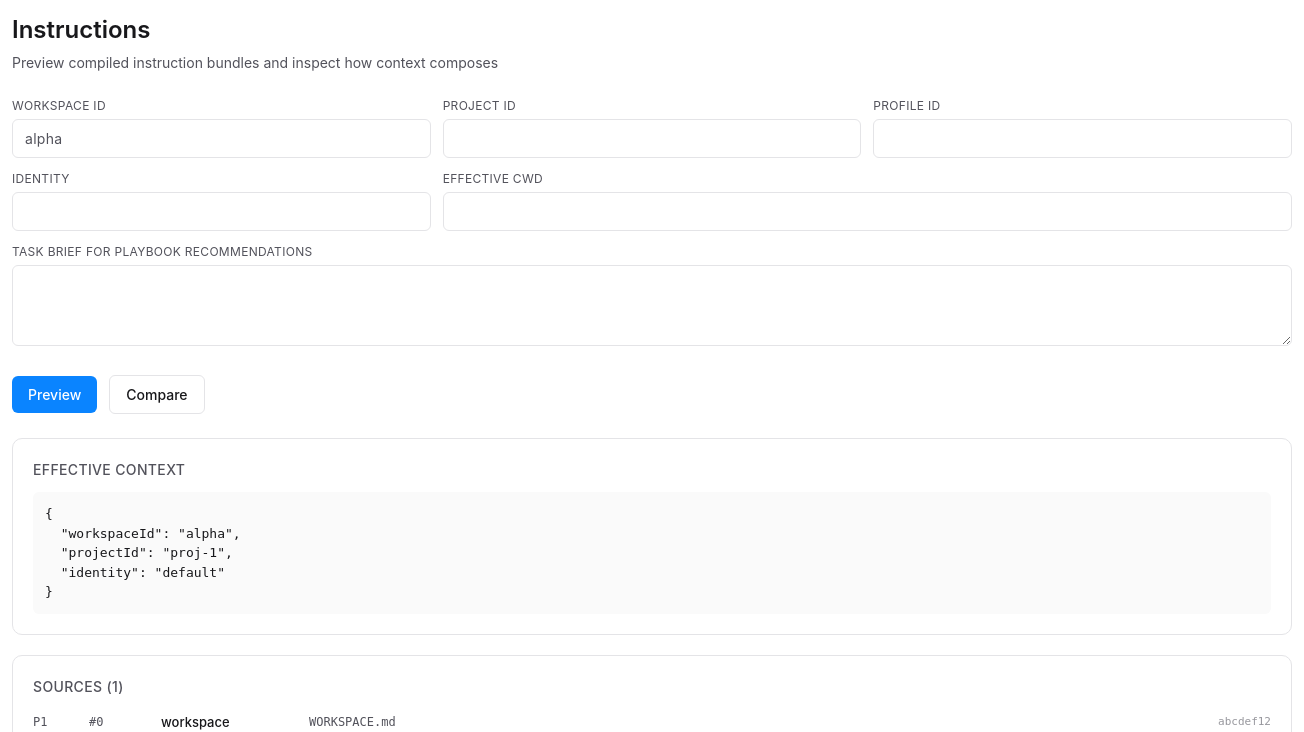
Test: Instructions › shows an error and clears stale bundle content on failure
The width and height of the screenshot is (1304, 732).
Replace the text in the field labelled "Workspace ID" with "gamma" at (221, 138), box [12, 119, 431, 158]
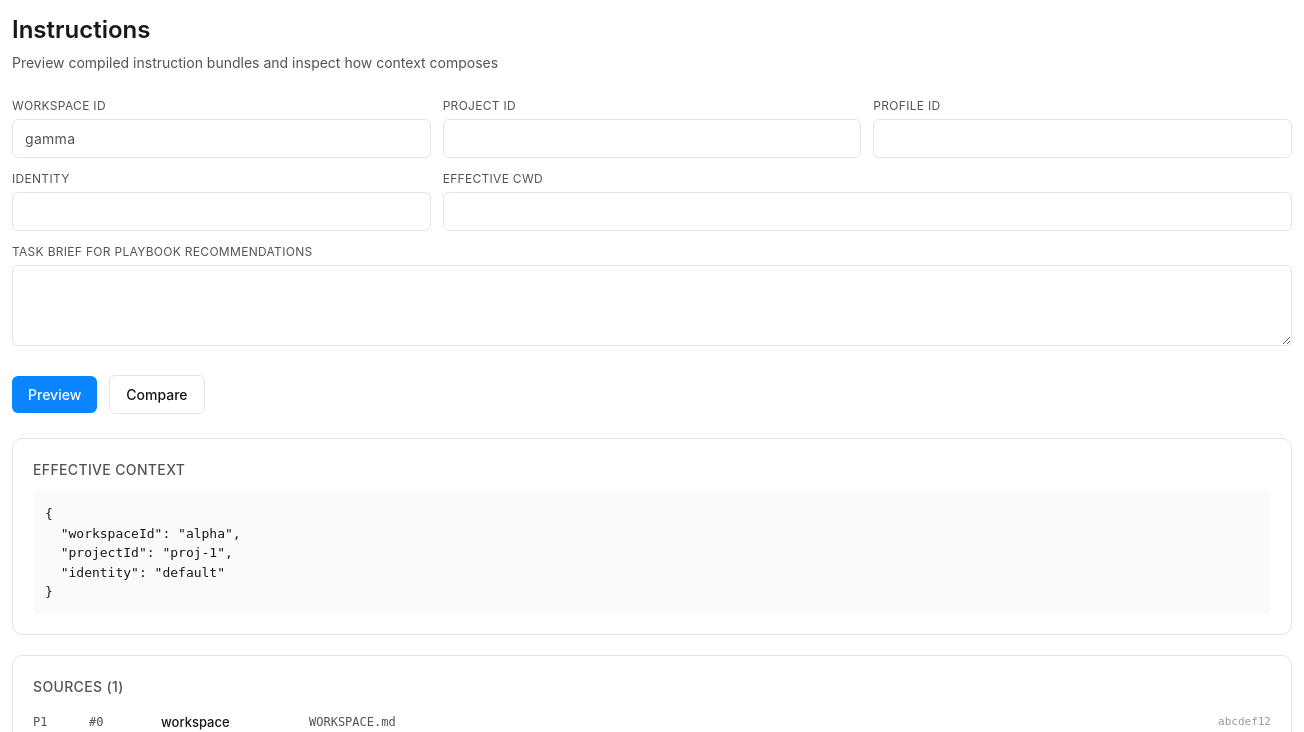
Click the button "Preview" at (55, 394), box [12, 376, 97, 413]
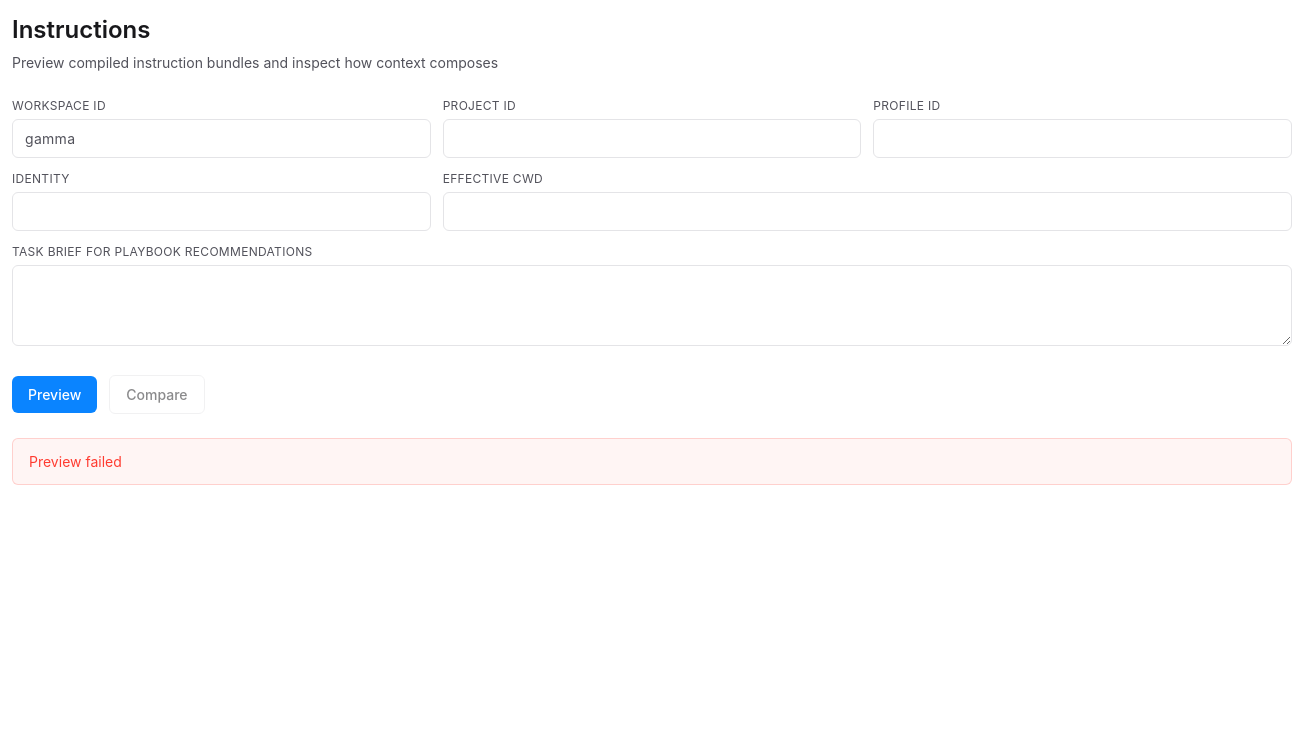
Check: the text "Preview failed" is shown, box [29, 453, 122, 470]
